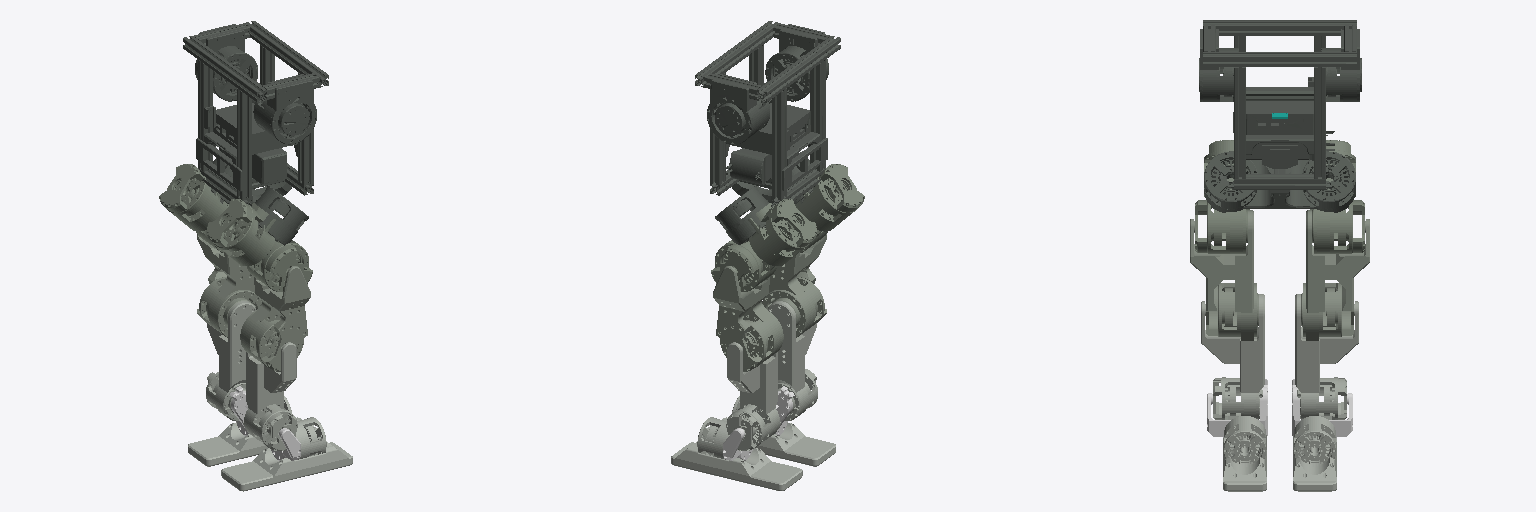
URDF robot description (berkeley-humanoid-lite):
<?xml version="1.0" ?>
<!-- Generated using onshape-to-robot -->
<!-- Onshape document_id: 8eacf058d85ce70fa4dc9355 -->
<robot name="berkeley-humanoid-lite">
  <!-- Link base -->
  <link name="base">
    <inertial>
      <origin xyz="-0.00461671 0.000372278 0.637874" rpy="0 0 0"/>
      <mass value="3.16059"/>
      <inertia ixx="0.0372453" ixy="-4.06133e-06" ixz="-0.000720627" iyy="0.0282653" iyz="-1.49369e-05" izz="0.0176468"/>
    </inertial>
    <!-- Part base_parts -->
    <collision>
      <origin xyz="-6.93889e-18 7.53521e-18 0.71" rpy="-2.26485e-14 -9.65001e-16 -1.5708"/>
      <geometry>
        <box size="0.15 0.14 0.23"/>
      </geometry>
    </collision>
    <visual>
      <origin xyz="-0.00461671 0.000372278 0.637874" rpy="0 -0 0"/>
      <geometry>
        <mesh filename="./assets/merged/base_visual.stl"/>
      </geometry>
      <material name="base_parts_material">
        <color rgba="0.375679 0.397177 0.375591 1.0"/>
      </material>
    </visual>
  </link>
  <!-- Link imu_2 -->
  <link name="imu_2">
    <inertial>
      <origin xyz="3.52366e-18 9.72026e-19 0.0025" rpy="0 0 0"/>
      <mass value="0.00197704"/>
      <inertia ixx="1.11441e-07" ixy="1.34895e-38" ixz="0" iyy="4.06118e-08" iyz="0" izz="1.43815e-07"/>
    </inertial>
    <!-- Part imu_2_parts -->
    <visual>
      <origin xyz="6.93889e-18 9.72026e-19 0.0025" rpy="6.12323e-17 -2.26485e-14 2.65724e-15"/>
      <geometry>
        <mesh filename="./assets/merged/imu_2_visual.stl"/>
      </geometry>
      <material name="imu_2_parts_material">
        <color rgba="0.141176 0.694118 0.65098 1.0"/>
      </material>
    </visual>
  </link>
  <!-- Frame imu (dummy link + fixed joint) -->
  <link name="imu">
    <origin xyz="0 0 0" rpy="0 -0 0"/>
    <inertial>
      <origin xyz="0 0 0" rpy="0 0 0"/>
      <mass value="1e-9"/>
      <inertia ixx="0" ixy="0" ixz="0" iyy="0" iyz="0" izz="0"/>
    </inertial>
  </link>
  <joint name="imu_frame" type="fixed">
    <origin xyz="0 -6.33816e-19 0.005" rpy="0 -0 -1.90898e-31"/>
    <parent link="imu_2"/>
    <child link="imu"/>
    <axis xyz="0 0 0"/>
  </joint>
  <!-- Joint from base to imu_2 -->
  <joint name="imu" type="fixed">
    <origin xyz="0.061722 -1.49319e-16 0.68" rpy="-6.12323e-17 2.26485e-14 -2.65724e-15"/>
    <parent link="base"/>
    <child link="imu_2"/>
    <axis xyz="0 0 1"/>
    <limit effort="20" velocity="15"/>
    <joint_properties friction="0.1"/>
  </joint>
  <!-- Link leg_left_hip_roll -->
  <link name="leg_left_hip_roll">
    <inertial>
      <origin xyz="-0.00410941 -0.000112596 -0.0464623" rpy="0 0 0"/>
      <mass value="0.83786"/>
      <inertia ixx="0.000979918" ixy="6.45954e-06" ixz="-1.63173e-05" iyy="0.000896043" iyz="-5.43389e-06" izz="0.000727678"/>
    </inertial>
    <!-- Part leg_left_hip_roll_parts -->
    <visual>
      <origin xyz="-0.00410941 -0.000112596 -0.0464623" rpy="-9.35706e-15 -0.785398 1.19419e-14"/>
      <geometry>
        <mesh filename="./assets/merged/leg_left_hip_roll_visual.stl"/>
      </geometry>
      <material name="leg_left_hip_roll_parts_material">
        <color rgba="0.514202 0.546917 0.498371 1.0"/>
      </material>
    </visual>
  </link>
  <!-- Link leg_left_hip_yaw -->
  <link name="leg_left_hip_yaw">
    <inertial>
      <origin xyz="-0.00411632 -8.63203e-05 0.0463382" rpy="0 0 0"/>
      <mass value="0.837683"/>
      <inertia ixx="0.000979031" ixy="-1.13217e-06" ixz="1.96352e-05" iyy="0.000898166" iyz="-5.91541e-06" izz="0.000724287"/>
    </inertial>
    <!-- Part leg_left_hip_yaw_parts -->
    <visual>
      <origin xyz="-0.00411632 -8.63203e-05 0.0463382" rpy="-3.14159 -0.785398 -1.5708"/>
      <geometry>
        <mesh filename="./assets/merged/leg_left_hip_yaw_visual.stl"/>
      </geometry>
      <material name="leg_left_hip_yaw_parts_material">
        <color rgba="0.514113 0.546836 0.49828 1.0"/>
      </material>
    </visual>
  </link>
  <!-- Link leg_left_hip_pitch -->
  <link name="leg_left_hip_pitch">
    <inertial>
      <origin xyz="0.0030405 0.120388 0.0210924" rpy="0 0 0"/>
      <mass value="0.947974"/>
      <inertia ixx="0.00286449" ixy="0.00012235" ixz="-2.15676e-05" iyy="0.00102465" iyz="0.000265775" izz="0.00259958"/>
    </inertial>
    <!-- Part leg_left_hip_pitch_parts -->
    <collision>
      <origin xyz="0.00597627 0.039 0.0295" rpy="1.5708 1.5708 0"/>
      <geometry>
        <cylinder length="0.13" radius="0.05"/>
      </geometry>
    </collision>
    <visual>
      <origin xyz="0.0030405 0.120388 0.0210924" rpy="1.5708 -7.461e-15 -3.10862e-15"/>
      <geometry>
        <mesh filename="./assets/merged/leg_left_hip_pitch_visual.stl"/>
      </geometry>
      <material name="leg_left_hip_pitch_parts_material">
        <color rgba="0.562885 0.5918 0.548895 1.0"/>
      </material>
    </visual>
  </link>
  <!-- Link leg_left_knee_pitch -->
  <link name="leg_left_knee_pitch">
    <inertial>
      <origin xyz="-4.14041e-05 -0.112249 0.0257397" rpy="0 0 0"/>
      <mass value="0.653864"/>
      <inertia ixx="0.00230126" ixy="-4.24923e-07" ixz="1.36589e-06" iyy="0.000559753" iyz="3.7889e-05" izz="0.00203727"/>
    </inertial>
    <!-- Part leg_left_knee_pitch_parts -->
    <collision>
      <origin xyz="-5.41812e-15 -0.115 0.022" rpy="-1.5708 1.5708 0"/>
      <geometry>
        <cylinder length="0.15" radius="0.04"/>
      </geometry>
    </collision>
    <visual>
      <origin xyz="-4.14041e-05 -0.112249 0.0257397" rpy="1.5708 -7.28874e-15 3.14159"/>
      <geometry>
        <mesh filename="./assets/merged/leg_left_knee_pitch_visual.stl"/>
      </geometry>
      <material name="leg_left_knee_pitch_parts_material">
        <color rgba="0.664553 0.686049 0.654152 1.0"/>
      </material>
    </visual>
  </link>
  <!-- Link leg_left_ankle_pitch -->
  <link name="leg_left_ankle_pitch">
    <inertial>
      <origin xyz="0.0131065 0.0273743 0.0274153" rpy="0 0 0"/>
      <mass value="0.106196"/>
      <inertia ixx="0.000188241" ixy="-2.50802e-05" ixz="-7.26755e-06" iyy="0.000142962" iyz="-7.72963e-06" izz="8.17202e-05"/>
    </inertial>
    <!-- Part leg_left_ankle_pitch_parts -->
    <visual>
      <origin xyz="0.0131065 0.0273743 0.0274153" rpy="1.5708 5.92291e-15 -2.07873e-13"/>
      <geometry>
        <mesh filename="./assets/merged/leg_left_ankle_pitch_visual.stl"/>
      </geometry>
      <material name="leg_left_ankle_pitch_parts_material">
        <color rgba="0.866867 0.866867 0.866867 1.0"/>
      </material>
    </visual>
  </link>
  <!-- Link leg_left_ankle_roll -->
  <link name="leg_left_ankle_roll">
    <inertial>
      <origin xyz="2.29341e-05 0.0226611 0.0197836" rpy="0 0 0"/>
      <mass value="0.706476"/>
      <inertia ixx="0.00198705" ixy="5.37011e-07" ixz="-8.3949e-07" iyy="0.00190341" iyz="0.000143151" izz="0.000619673"/>
    </inertial>
    <!-- Part leg_left_ankle_roll_parts -->
    <collision>
      <origin xyz="1.4526e-14 0.03 0.006" rpy="1.5708 -1.57874e-13 -6.89359e-14"/>
      <geometry>
        <box size="0.072 0.22 0.04"/>
      </geometry>
    </collision>
    <visual>
      <origin xyz="2.29341e-05 0.0226611 0.0197836" rpy="1.5708 -1.5708 0"/>
      <geometry>
        <mesh filename="./assets/merged/leg_left_ankle_roll_visual.stl"/>
      </geometry>
      <material name="leg_left_ankle_roll_parts_material">
        <color rgba="0.694564 0.714459 0.684938 1.0"/>
      </material>
    </visual>
  </link>
  <!-- Joint from leg_left_ankle_pitch to leg_left_ankle_roll -->
  <joint name="leg_left_ankle_roll_joint" type="revolute">
    <origin xyz="0.03 0.05 0.025" rpy="-6.80837e-17 1.5708 0"/>
    <parent link="leg_left_ankle_pitch"/>
    <child link="leg_left_ankle_roll"/>
    <axis xyz="0 0 1"/>
    <limit effort="20" velocity="15" lower="-0.261799" upper="0.261799"/>
    <joint_properties friction="0.1"/>
  </joint>
  <!-- Joint from leg_left_knee_pitch to leg_left_ankle_pitch -->
  <joint name="leg_left_ankle_pitch_joint" type="revolute">
    <origin xyz="-2.44769e-15 -0.16 -0.003" rpy="1.34337e-14 -1.32117e-14 -3.14159"/>
    <parent link="leg_left_knee_pitch"/>
    <child link="leg_left_ankle_pitch"/>
    <axis xyz="0 0 1"/>
    <limit effort="20" velocity="15" lower="-0.785398" upper="0.785398"/>
    <joint_properties friction="0.1"/>
  </joint>
  <!-- Joint from leg_left_hip_pitch to leg_left_knee_pitch -->
  <joint name="leg_left_knee_pitch_joint" type="revolute">
    <origin xyz="4.04191e-16 0.15 -0.018" rpy="1.40516e-29 1.72255e-16 -3.14159"/>
    <parent link="leg_left_hip_pitch"/>
    <child link="leg_left_knee_pitch"/>
    <axis xyz="0 0 1"/>
    <limit effort="20" velocity="15" lower="-3.16192e-13" upper="2.44346"/>
    <joint_properties friction="0.1"/>
  </joint>
  <!-- Joint from leg_left_hip_yaw to leg_left_hip_pitch -->
  <joint name="leg_left_hip_pitch_joint" type="revolute">
    <origin xyz="0.027 -1.11022e-16 0.052" rpy="1.5708 -0.785398 -1.5708"/>
    <parent link="leg_left_hip_yaw"/>
    <child link="leg_left_hip_pitch"/>
    <axis xyz="0 0 1"/>
    <limit effort="20" velocity="15" lower="-1.89805" upper="0.981748"/>
    <joint_properties friction="0.1"/>
  </joint>
  <!-- Joint from leg_left_hip_roll to leg_left_hip_yaw -->
  <joint name="leg_left_hip_yaw_joint" type="revolute">
    <origin xyz="0.027 0 -0.052" rpy="-1.5708 -1.63347e-15 -1.5708"/>
    <parent link="leg_left_hip_roll"/>
    <child link="leg_left_hip_yaw"/>
    <axis xyz="0 0 1"/>
    <limit effort="20" velocity="15" lower="-0.981748" upper="0.589049"/>
    <joint_properties friction="0.1"/>
  </joint>
  <!-- Joint from base to leg_left_hip_roll -->
  <joint name="leg_left_hip_roll_joint" type="revolute">
    <origin xyz="-0.0290919 0.08 0.542631" rpy="2.21613e-15 0.785398 -7.34556e-15"/>
    <parent link="base"/>
    <child link="leg_left_hip_roll"/>
    <axis xyz="0 0 1"/>
    <limit effort="20" velocity="15" lower="-0.174533" upper="1.5708"/>
    <joint_properties friction="0.1"/>
  </joint>
  <!-- Link leg_right_hip_roll -->
  <link name="leg_right_hip_roll">
    <inertial>
      <origin xyz="0.00410941 -0.00018505 -0.0464478" rpy="0 0 0"/>
      <mass value="0.83786"/>
      <inertia ixx="0.000979766" ixy="-3.69135e-06" ixz="1.57667e-05" iyy="0.000896334" iyz="-4.74708e-06" izz="0.000727235"/>
    </inertial>
    <!-- Part leg_right_hip_roll_parts -->
    <visual>
      <origin xyz="0.00410941 -0.00018505 -0.0464478" rpy="-9.76523e-15 -0.785398 -3.14159"/>
      <geometry>
        <mesh filename="./assets/merged/leg_right_hip_roll_visual.stl"/>
      </geometry>
      <material name="leg_right_hip_roll_parts_material">
        <color rgba="0.514202 0.546917 0.498371 1.0"/>
      </material>
    </visual>
  </link>
  <!-- Link leg_right_hip_yaw -->
  <link name="leg_right_hip_yaw">
    <inertial>
      <origin xyz="0.00411632 -1.3851e-05 0.0463238" rpy="0 0 0"/>
      <mass value="0.837683"/>
      <inertia ixx="0.000978901" ixy="-1.63559e-06" ixz="-1.90847e-05" iyy="0.000898454" iyz="-5.23378e-06" izz="0.000723868"/>
    </inertial>
    <!-- Part leg_right_hip_yaw_parts -->
    <visual>
      <origin xyz="0.00411632 -1.3851e-05 0.0463238" rpy="-3.14159 -0.785398 -1.5708"/>
      <geometry>
        <mesh filename="./assets/merged/leg_right_hip_yaw_visual.stl"/>
      </geometry>
      <material name="leg_right_hip_yaw_parts_material">
        <color rgba="0.514113 0.546836 0.49828 1.0"/>
      </material>
    </visual>
  </link>
  <!-- Link leg_right_hip_pitch -->
  <link name="leg_right_hip_pitch">
    <inertial>
      <origin xyz="0.00319928 0.120388 -0.0210924" rpy="0 0 0"/>
      <mass value="0.947974"/>
      <inertia ixx="0.00286448" ixy="0.000117078" ixz="2.6845e-05" iyy="0.00102371" iyz="-0.000265774" izz="0.00259864"/>
    </inertial>
    <!-- Part leg_right_hip_pitch_parts -->
    <collision>
      <origin xyz="0.00597627 0.039 -0.0295" rpy="1.5708 1.5708 0"/>
      <geometry>
        <cylinder length="0.13" radius="0.05"/>
      </geometry>
    </collision>
    <visual>
      <origin xyz="0.00319928 0.120388 -0.0210924" rpy="1.5708 -6.71544e-15 -2.48065e-15"/>
      <geometry>
        <mesh filename="./assets/merged/leg_right_hip_pitch_visual.stl"/>
      </geometry>
      <material name="leg_right_hip_pitch_parts_material">
        <color rgba="0.562885 0.5918 0.548895 1.0"/>
      </material>
    </visual>
  </link>
  <!-- Link leg_right_knee_pitch -->
  <link name="leg_right_knee_pitch">
    <inertial>
      <origin xyz="-5.09429e-05 0.112249 -0.0257397" rpy="0 0 0"/>
      <mass value="0.653864"/>
      <inertia ixx="0.00230126" ixy="1.34936e-06" ixz="-1.17826e-06" iyy="0.000559752" iyz="3.7889e-05" izz="0.00203727"/>
    </inertial>
    <!-- Part leg_right_knee_pitch_parts -->
    <collision>
      <origin xyz="1.15514e-14 0.115 -0.022" rpy="1.5708 1.5708 0"/>
      <geometry>
        <cylinder length="0.15" radius="0.04"/>
      </geometry>
    </collision>
    <visual>
      <origin xyz="-5.09429e-05 0.112249 -0.0257397" rpy="1.5708 -6.95618e-15 -2.56528e-15"/>
      <geometry>
        <mesh filename="./assets/merged/leg_right_knee_pitch_visual.stl"/>
      </geometry>
      <material name="leg_right_knee_pitch_parts_material">
        <color rgba="0.664553 0.686049 0.654152 1.0"/>
      </material>
    </visual>
  </link>
  <!-- Link leg_right_ankle_pitch -->
  <link name="leg_right_ankle_pitch">
    <inertial>
      <origin xyz="0.0131065 0.0273743 -0.0274153" rpy="0 0 0"/>
      <mass value="0.106196"/>
      <inertia ixx="0.000188241" ixy="-2.50802e-05" ixz="7.26754e-06" iyy="0.000142962" iyz="7.72962e-06" izz="8.17203e-05"/>
    </inertial>
    <!-- Part leg_right_ankle_pitch_parts -->
    <visual>
      <origin xyz="0.0131065 0.0273743 -0.0274153" rpy="1.5708 -6.79537e-15 1.09692e-13"/>
      <geometry>
        <mesh filename="./assets/merged/leg_right_ankle_pitch_visual.stl"/>
      </geometry>
      <material name="leg_right_ankle_pitch_parts_material">
        <color rgba="0.866867 0.866867 0.866867 1.0"/>
      </material>
    </visual>
  </link>
  <!-- Link leg_right_ankle_roll -->
  <link name="leg_right_ankle_roll">
    <inertial>
      <origin xyz="2.29341e-05 0.0226611 0.0197836" rpy="0 0 0"/>
      <mass value="0.706476"/>
      <inertia ixx="0.00198705" ixy="5.37011e-07" ixz="-8.3949e-07" iyy="0.00190341" iyz="0.000143151" izz="0.000619673"/>
    </inertial>
    <!-- Part leg_right_ankle_roll_parts -->
    <collision>
      <origin xyz="6.38304e-15 0.03 0.006" rpy="1.5708 4.48974e-13 -2.11051e-13"/>
      <geometry>
        <box size="0.072 0.22 0.04"/>
      </geometry>
    </collision>
    <visual>
      <origin xyz="2.29341e-05 0.0226611 0.0197836" rpy="1.5708 -1.5708 0"/>
      <geometry>
        <mesh filename="./assets/merged/leg_right_ankle_roll_visual.stl"/>
      </geometry>
      <material name="leg_right_ankle_roll_parts_material">
        <color rgba="0.694564 0.714459 0.684938 1.0"/>
      </material>
    </visual>
  </link>
  <!-- Joint from leg_right_ankle_pitch to leg_right_ankle_roll -->
  <joint name="leg_right_ankle_roll_joint" type="revolute">
    <origin xyz="0.03 0.05 -0.025" rpy="-6.80837e-17 1.5708 0"/>
    <parent link="leg_right_ankle_pitch"/>
    <child link="leg_right_ankle_roll"/>
    <axis xyz="0 0 1"/>
    <limit effort="20" velocity="15" lower="-0.261799" upper="0.261799"/>
    <joint_properties friction="0.1"/>
  </joint>
  <!-- Joint from leg_right_knee_pitch to leg_right_ankle_pitch -->
  <joint name="leg_right_ankle_pitch_joint" type="revolute">
    <origin xyz="1.42421e-15 0.16 0.003" rpy="-2.22045e-16 -1.60812e-16 -1.12257e-13"/>
    <parent link="leg_right_knee_pitch"/>
    <child link="leg_right_ankle_pitch"/>
    <axis xyz="0 0 1"/>
    <limit effort="20" velocity="15" lower="-0.785398" upper="0.785398"/>
    <joint_properties friction="0.1"/>
  </joint>
  <!-- Joint from leg_right_hip_pitch to leg_right_knee_pitch -->
  <joint name="leg_right_knee_pitch_joint" type="revolute">
    <origin xyz="0 0.15 0.018" rpy="3.21091e-16 2.40745e-16 8.46265e-17"/>
    <parent link="leg_right_hip_pitch"/>
    <child link="leg_right_knee_pitch"/>
    <axis xyz="0 0 1"/>
    <limit effort="20" velocity="15" lower="-1.08358e-13" upper="2.44346"/>
    <joint_properties friction="0.1"/>
  </joint>
  <!-- Joint from leg_right_hip_yaw to leg_right_hip_pitch -->
  <joint name="leg_right_hip_pitch_joint" type="revolute">
    <origin xyz="-0.027 -2.22045e-16 0.052" rpy="1.5708 -0.785398 -1.5708"/>
    <parent link="leg_right_hip_yaw"/>
    <child link="leg_right_hip_pitch"/>
    <axis xyz="0 0 1"/>
    <limit effort="20" velocity="15" lower="-1.89805" upper="0.981748"/>
    <joint_properties friction="0.1"/>
  </joint>
  <!-- Joint from leg_right_hip_roll to leg_right_hip_yaw -->
  <joint name="leg_right_hip_yaw_joint" type="revolute">
    <origin xyz="-0.027 -1.38778e-17 -0.052" rpy="-1.5708 4.7846e-16 1.5708"/>
    <parent link="leg_right_hip_roll"/>
    <child link="leg_right_hip_yaw"/>
    <axis xyz="0 0 1"/>
    <limit effort="20" velocity="15" lower="-0.589049" upper="0.981748"/>
    <joint_properties friction="0.1"/>
  </joint>
  <!-- Joint from base to leg_right_hip_roll -->
  <joint name="leg_right_hip_roll_joint" type="revolute">
    <origin xyz="-0.0290919 -0.08 0.542631" rpy="-1.75261e-15 -0.785398 3.14159"/>
    <parent link="base"/>
    <child link="leg_right_hip_roll"/>
    <axis xyz="0 0 1"/>
    <limit effort="20" velocity="15" lower="-1.5708" upper="0.174533"/>
    <joint_properties friction="0.1"/>
  </joint>
</robot>

--- What the picture shows (computed from the rendered views, not written in the file) ---
The picture shows the robot from 3 angles, left to right: view 1: azimuth 30°, elevation 25°; view 2: azimuth 150°, elevation 25°; view 3: azimuth 270°, elevation 25°; orthographic projection.
Robot: berkeley-humanoid-lite — 15 links, 14 joints (12 revolute, 2 fixed); root link base; default pose: every joint at zero.
Links seen in each view (by area): view 1: base, leg_right_hip_pitch, leg_right_ankle_roll, leg_right_knee_pitch, leg_left_hip_pitch, leg_right_hip_roll, leg_left_knee_pitch, leg_left_hip_roll, leg_left_ankle_roll, leg_right_hip_yaw, leg_right_ankle_pitch; view 2: base, leg_left_hip_pitch, leg_left_ankle_roll, leg_left_knee_pitch, leg_right_hip_pitch, leg_left_hip_roll, leg_right_knee_pitch, leg_right_hip_roll, leg_right_ankle_roll, leg_left_hip_yaw, leg_left_ankle_pitch; view 3: base, leg_left_hip_pitch, leg_right_hip_pitch, leg_left_knee_pitch, leg_right_knee_pitch, leg_right_ankle_roll, leg_left_ankle_roll, leg_left_hip_yaw, leg_right_hip_yaw, leg_left_ankle_pitch, leg_right_ankle_pitch.
Boxes of the visible links, <box> form: base: <box>183,21,328,245</box>; leg_right_hip_pitch: <box>240,266,310,371</box>; leg_right_ankle_roll: <box>221,417,352,491</box>; leg_right_knee_pitch: <box>243,342,297,450</box>; leg_left_hip_pitch: <box>197,234,261,337</box>; leg_right_hip_roll: <box>207,199,275,265</box>; leg_left_knee_pitch: <box>206,301,255,420</box>; leg_left_hip_roll: <box>159,164,228,231</box>; leg_left_ankle_roll: <box>188,396,301,466</box>; leg_right_hip_yaw: <box>247,240,312,291</box>; leg_right_ankle_pitch: <box>245,405,300,460</box>; base: <box>695,21,840,244</box>; leg_left_hip_pitch: <box>713,266,783,371</box>; leg_left_ankle_roll: <box>671,417,802,490</box>; leg_left_knee_pitch: <box>726,342,780,450</box>; leg_right_hip_pitch: <box>762,234,826,337</box>; leg_left_hip_roll: <box>748,199,816,265</box>; leg_right_knee_pitch: <box>768,301,817,420</box>; leg_right_hip_roll: <box>795,164,864,231</box>; leg_right_ankle_roll: <box>722,396,835,466</box>; leg_left_hip_yaw: <box>711,240,776,291</box>; leg_left_ankle_pitch: <box>723,405,778,460</box>; base: <box>1199,20,1361,212</box>; leg_left_hip_pitch: <box>1301,210,1369,340</box>; leg_right_hip_pitch: <box>1190,210,1258,340</box>; leg_left_knee_pitch: <box>1295,294,1358,419</box>; leg_right_knee_pitch: <box>1201,294,1264,419</box>; leg_right_ankle_roll: <box>1223,416,1266,491</box>; leg_left_ankle_roll: <box>1293,416,1336,491</box>; leg_left_hip_yaw: <box>1310,189,1364,253</box>; leg_right_hip_yaw: <box>1195,189,1249,253</box>; leg_left_ankle_pitch: <box>1292,379,1352,437</box>; leg_right_ankle_pitch: <box>1207,379,1267,437</box>.
Size in the robot's own frame: 0.2704 by 0.294 by 0.7528 metres.
14 mesh visuals loaded from 14 distinct referenced files (14 binary STL).